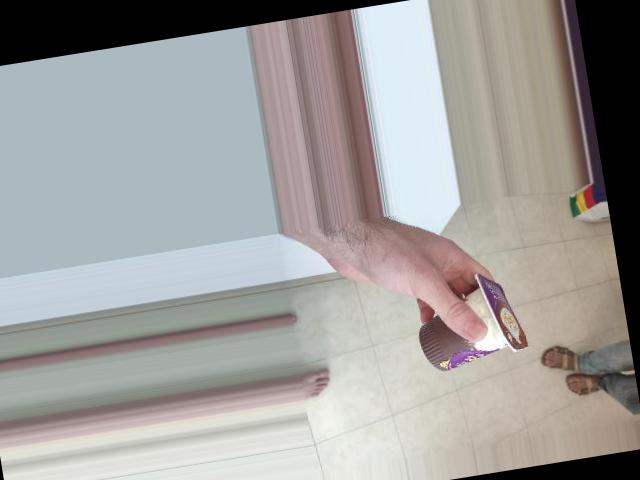milky: (403, 280, 525, 375)
